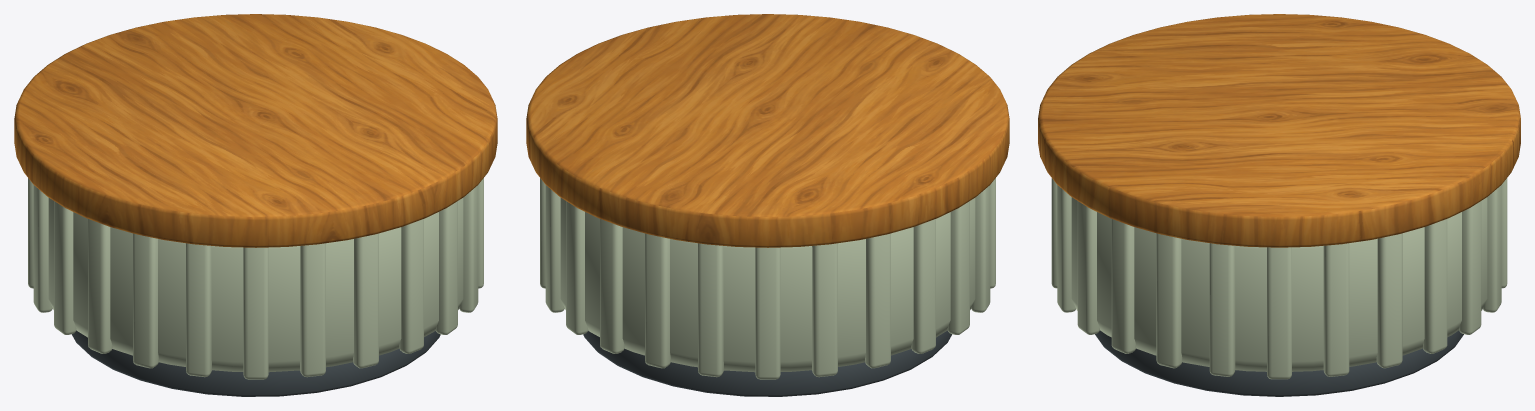
The model's file is drum-coffee-table.glb.
3 views of the same model, side by side, from view 1: azimuth 30°, elevation 25°; view 2: azimuth 150°, elevation 25°; view 3: azimuth 270°, elevation 25° (orthographic).
Parts seen in each view (by area): view 1: drum-coffee-table; view 2: drum-coffee-table; view 3: drum-coffee-table.
Part boxes in pixels (box(x1,y1,x2,y2)): drum-coffee-table: box(14, 14, 497, 396); drum-coffee-table: box(526, 14, 1009, 396); drum-coffee-table: box(1038, 14, 1520, 396).
Size of the model in its own units: 0.86 by 0.4 by 0.86.
3 materials, 1 textured.
